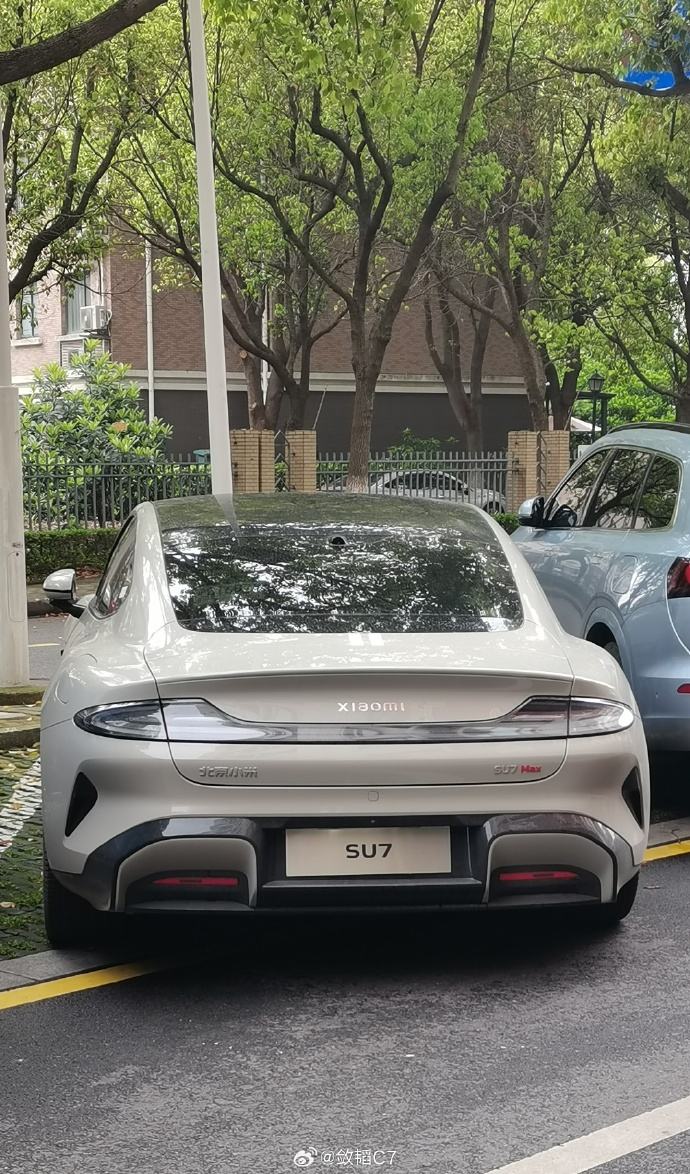su7: (41, 504, 650, 972)
